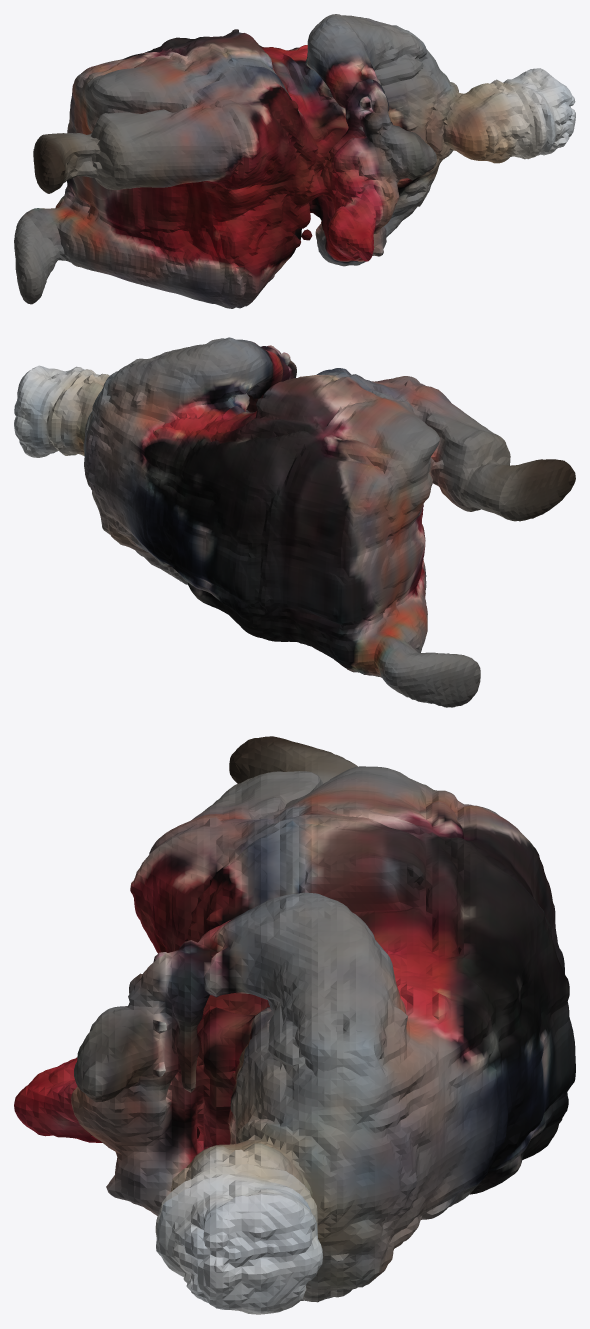
File: hero_3_4_mesh.obj
3 views of the same model, one above another, from view 1: azimuth 30°, elevation 25°; view 2: azimuth 150°, elevation 25°; view 3: azimuth 270°, elevation 25° (orthographic). The views are drawn at different scales.
Size of the model in its own units: 1.07 by 0.4838 by 0.604.
